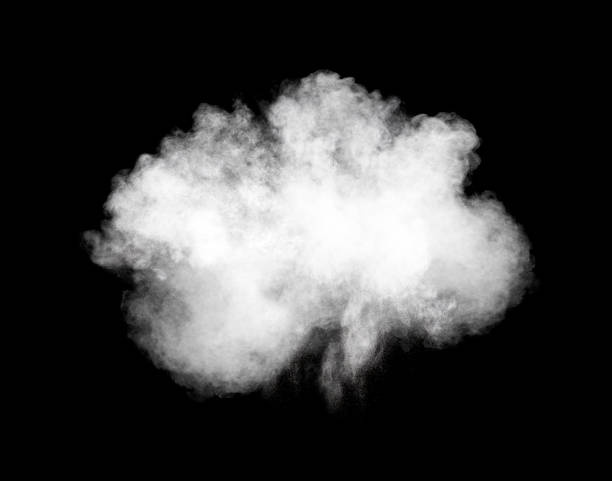smoke: (87, 68, 533, 397)
